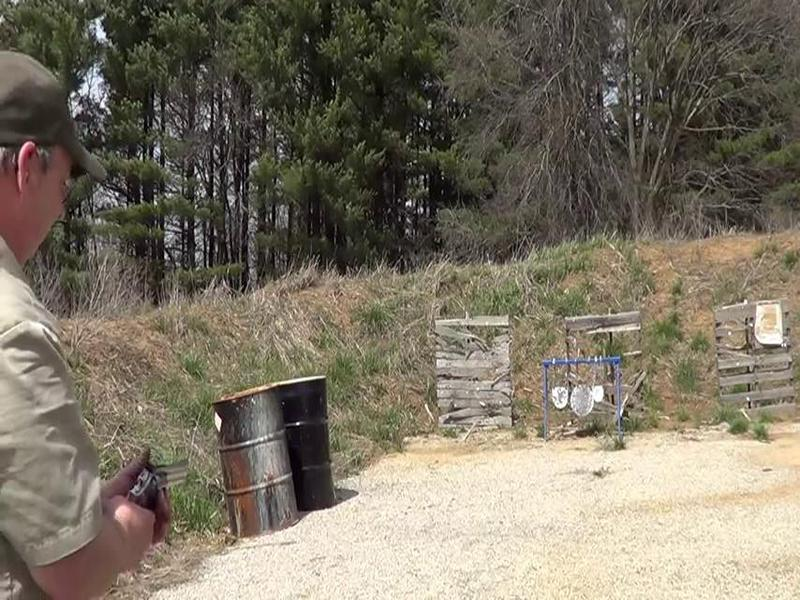Revolver: (122, 453, 217, 539)
